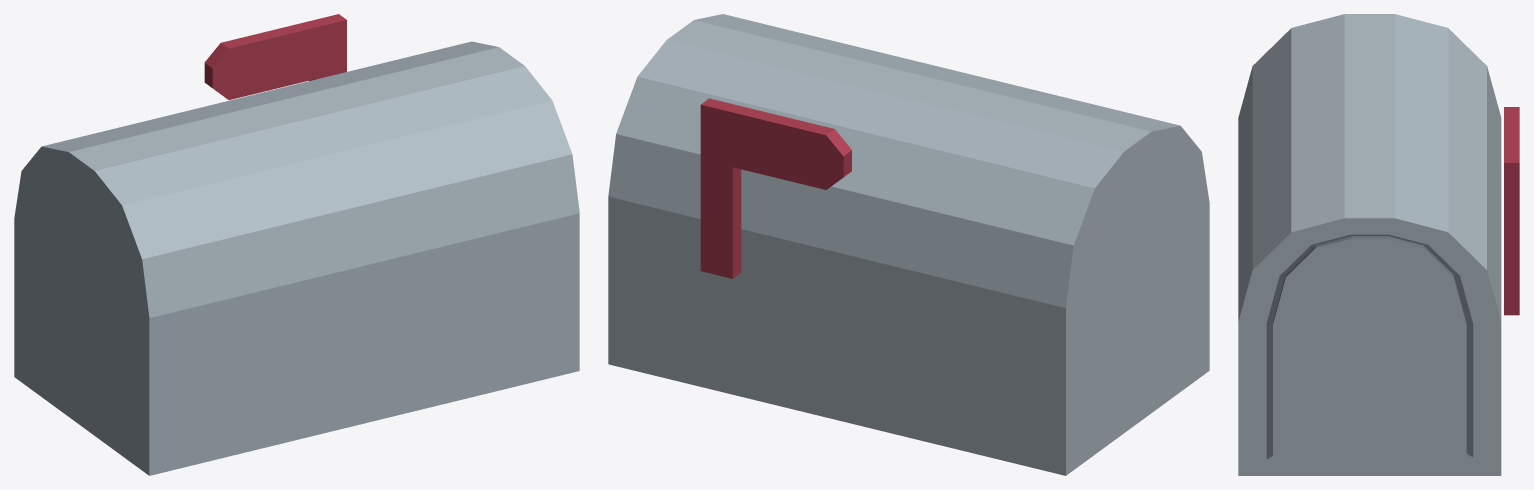
The model's file is Prop_Mailbox_Small.fbx.
3 views of the same model, side by side, from view 1: azimuth 30°, elevation 25°; view 2: azimuth 150°, elevation 25°; view 3: azimuth 270°, elevation 25° (orthographic). The views are drawn at different scales.
Visible parts, largest first — view 1: Cube.375, Cube.376; view 2: Cube.375, Cube.376; view 3: Cube.375, Cube.376.
Boxes of the visible parts, <box> form: Cube.375: <box>14,41,579,475</box>; Cube.376: <box>204,14,346,99</box>; Cube.375: <box>608,14,1209,475</box>; Cube.376: <box>700,98,851,278</box>; Cube.375: <box>1238,14,1501,475</box>; Cube.376: <box>1504,107,1519,315</box>.
Bounding box in the file's own units: 59.21 × 36.1 × 34.47.
